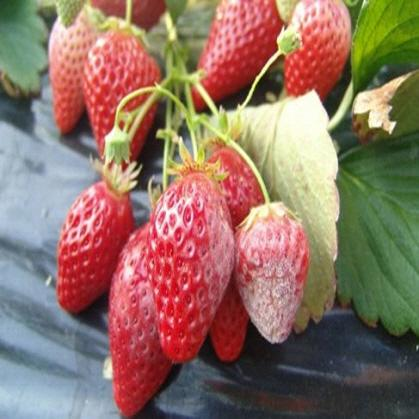Powdery Mildew Fruit: (144, 167, 236, 365), (232, 201, 311, 346)
